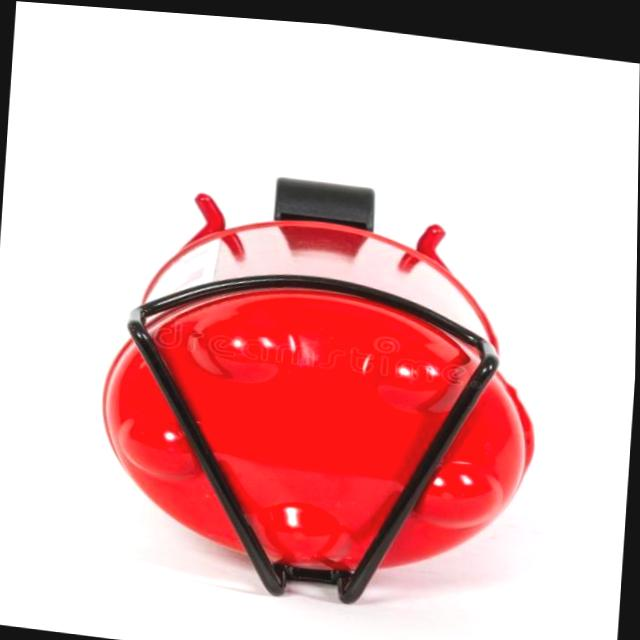FireExtinguisher: (85, 234, 549, 596)
